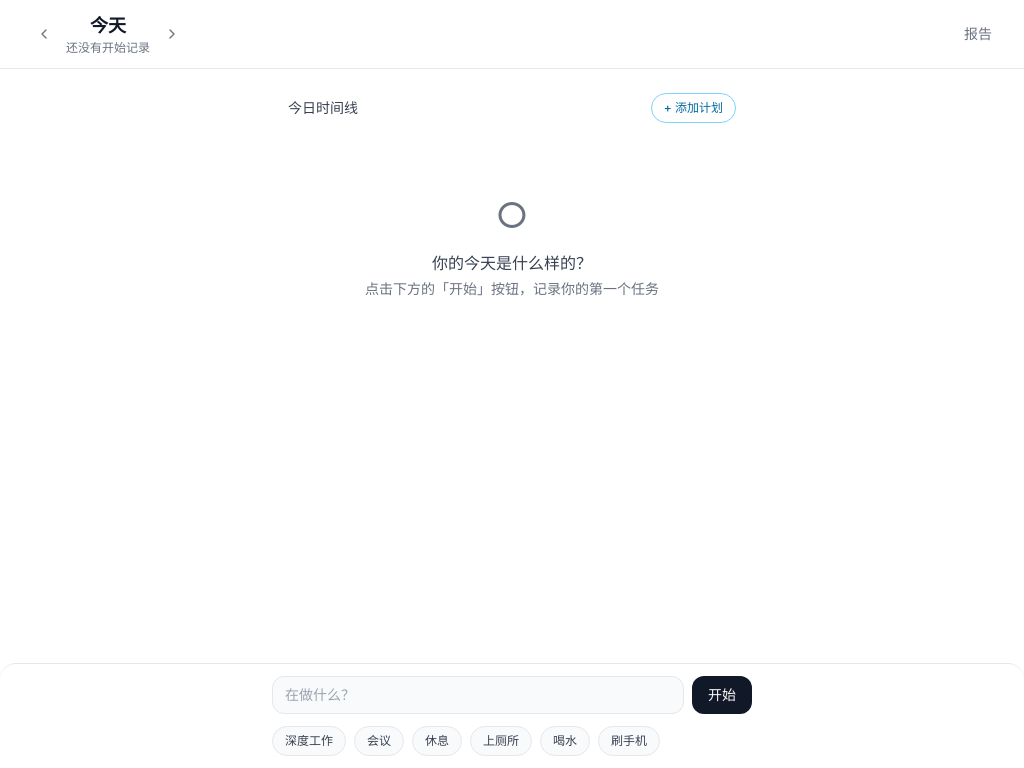
Test: App view toggle › toggles between timeline and report views
This screenshot has width=1024, height=768.
Expected: the text "今日时间线" is shown, x1=288 y1=98 x2=358 y2=118
// Click report button
Click the button "报告".
click(978, 34)  # box x1=964 y1=24 x2=992 y2=44
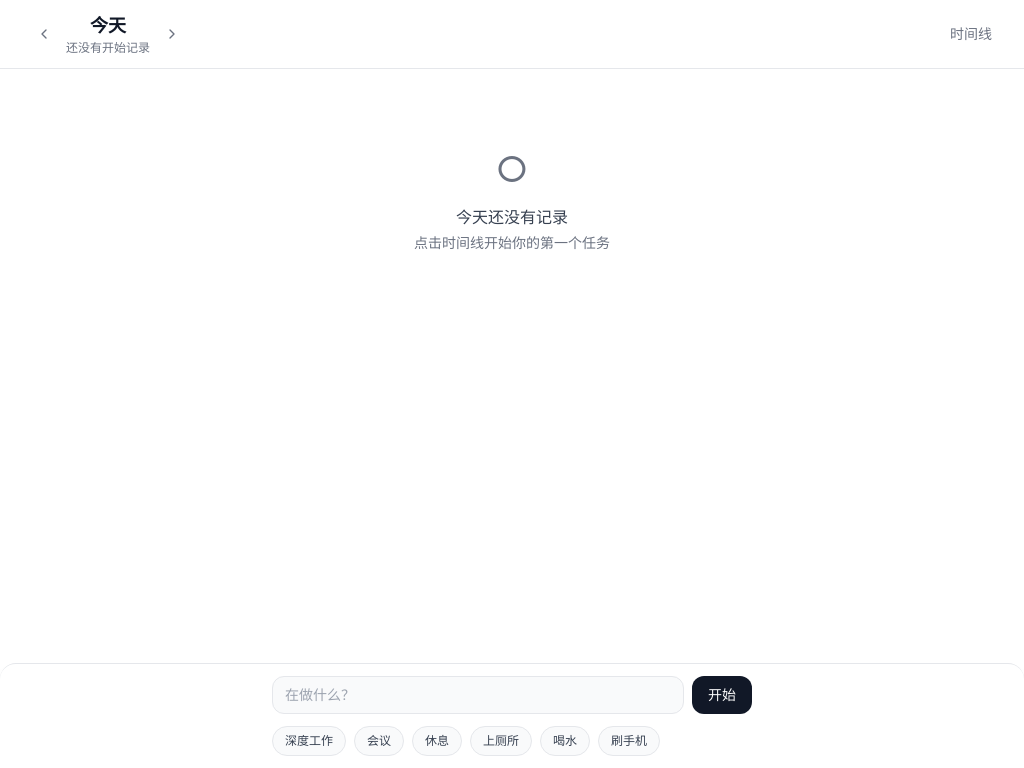
Expected: the text "今天还没有记录" is shown, x1=456 y1=205 x2=568 y2=229
// Click again to go back
Click the button "时间线".
click(971, 34)  # box x1=950 y1=24 x2=992 y2=44
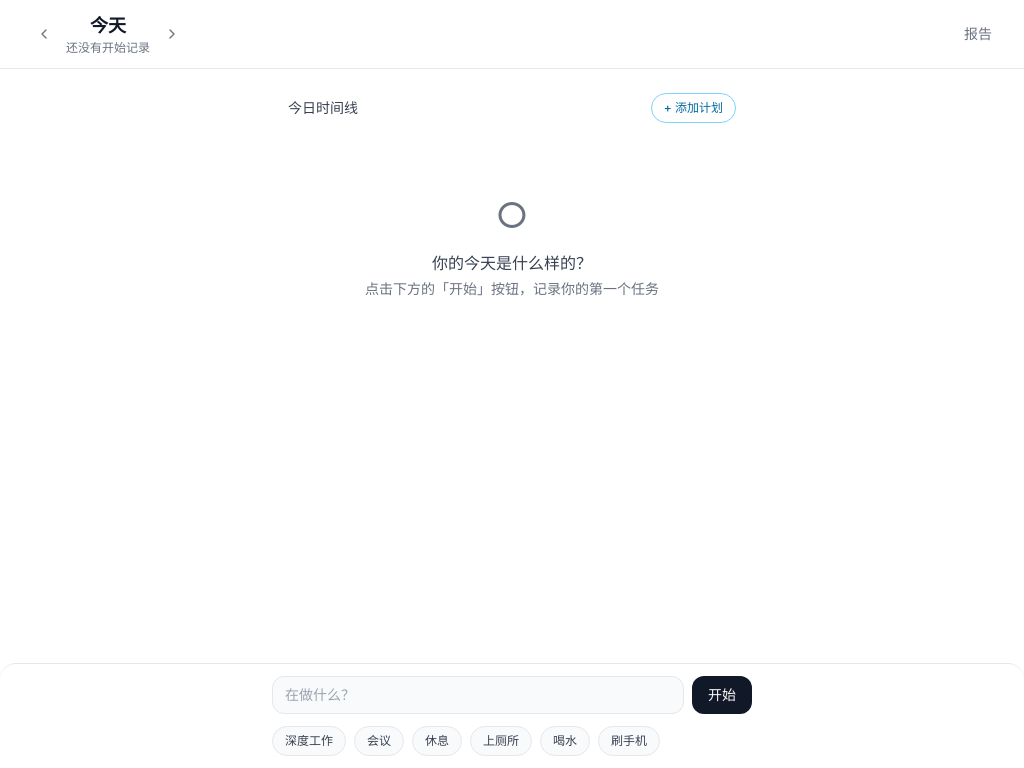
Expected: the text "今日时间线" is shown, x1=288 y1=98 x2=358 y2=118
